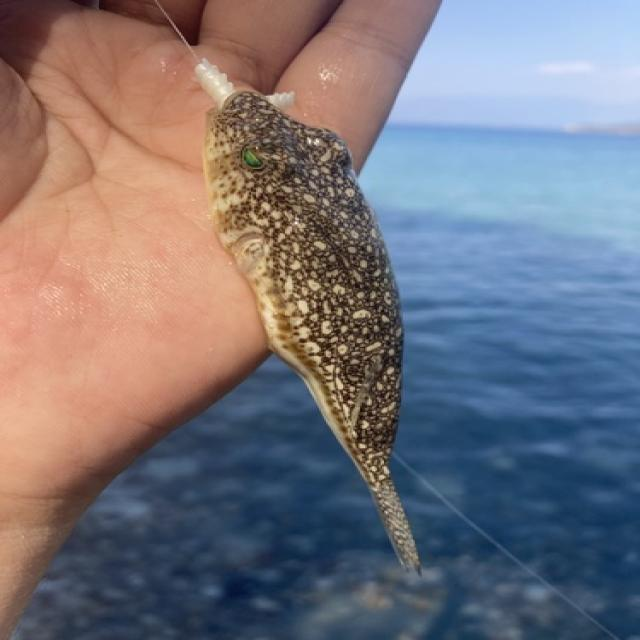Balik: (205, 93, 419, 570)
